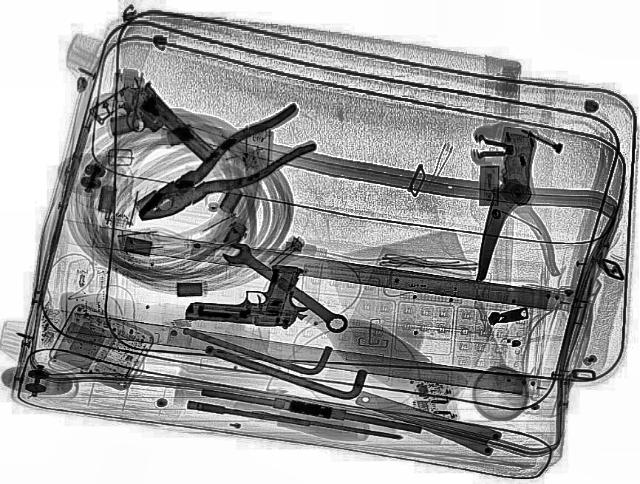Gun: (80, 75, 222, 183), (185, 257, 318, 329)
Pliers: (113, 102, 335, 234)
Wrench: (217, 238, 356, 334)
